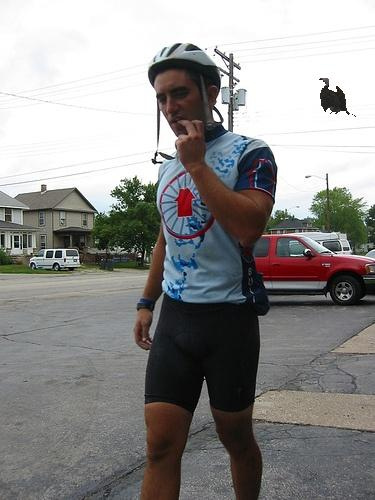tampered: (320, 79, 374, 117)
